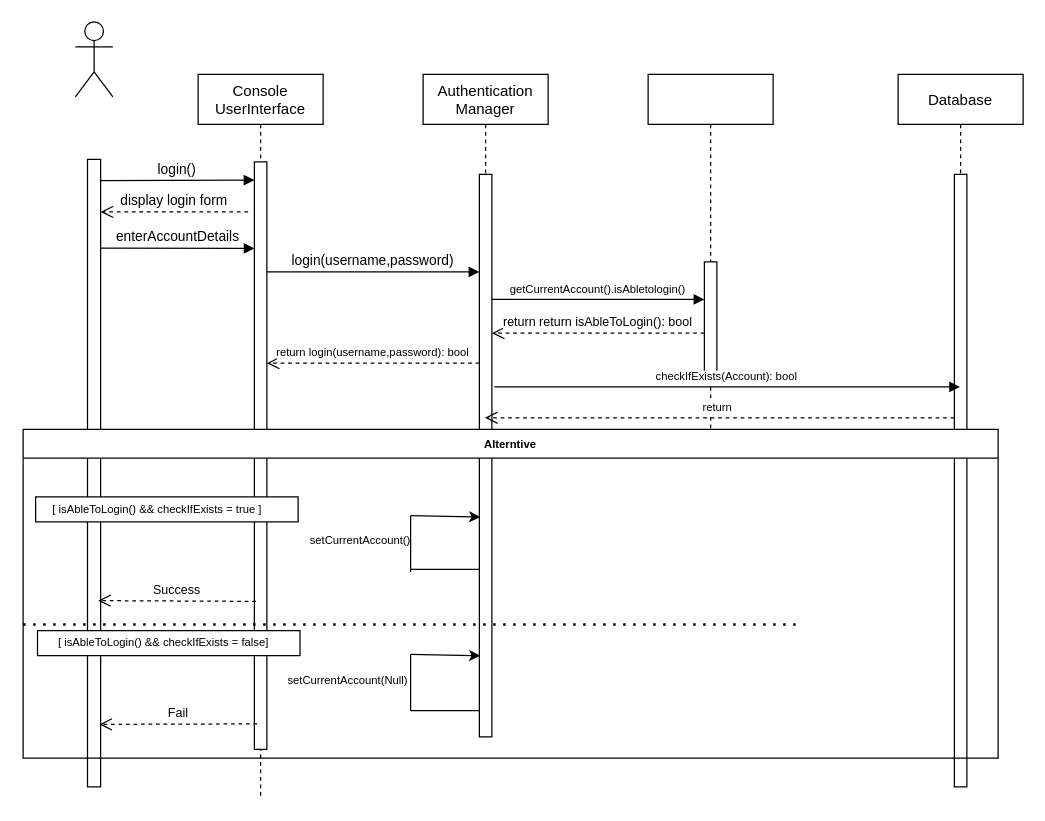
Image size: 1045x821. Some labels were removed from this diagram. The centre of each missing label's shape, as x and y in pixels:
Account: the point at 710,261
Actor: the point at 93,59
